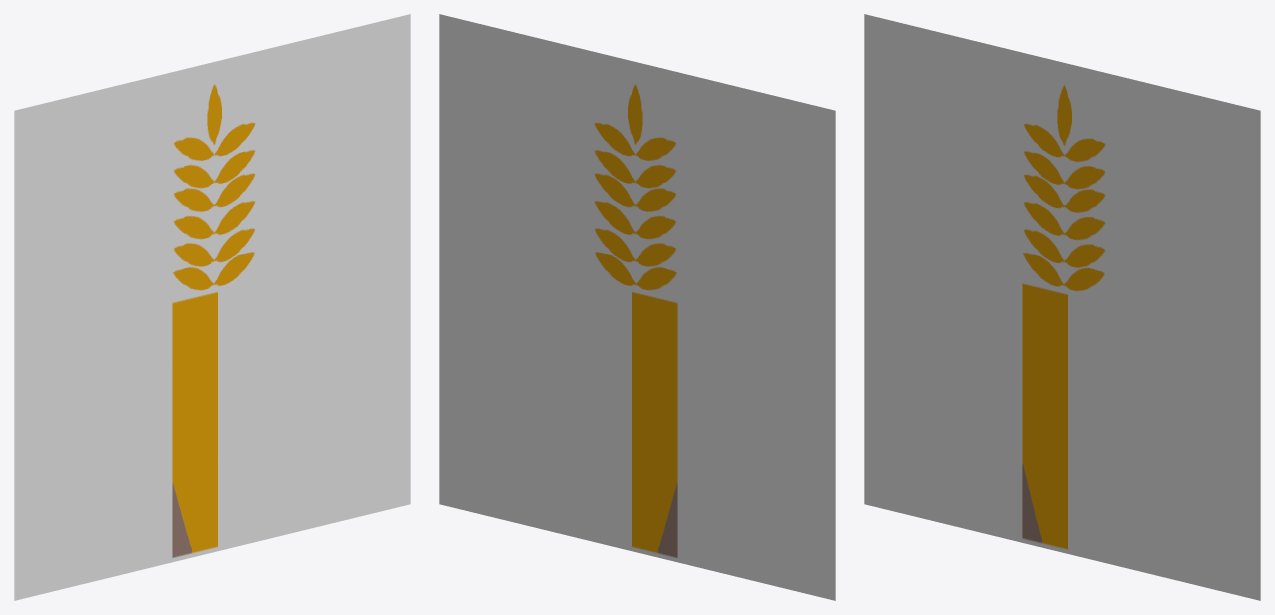
Rendered from Wheat.fbx.
The picture shows the model from 3 angles, left to right: view 1: azimuth 30°, elevation 25°; view 2: azimuth 150°, elevation 25°; view 3: azimuth 330°, elevation 25°; orthographic projection.
Parts seen in each view (by area): view 1: Plane068; view 2: Plane068; view 3: Plane068.
Part boxes in pixels (x1=…): Plane068: x1=14, y1=14, x2=410, y2=600; Plane068: x1=439, y1=14, x2=835, y2=600; Plane068: x1=864, y1=14, x2=1260, y2=600.
Size of the model in its own units: 16.79 by 19.82 by 8.67e-07.
